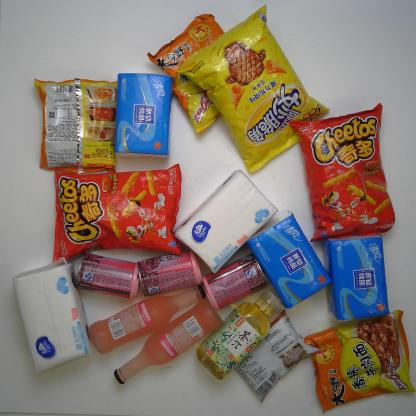Alcohol: (112, 298, 225, 387), (86, 282, 207, 357)
Canned Food: (200, 252, 271, 312), (73, 249, 140, 303), (136, 249, 204, 299)
Drink: (196, 288, 286, 384)
Instant Noodles: (302, 308, 416, 416), (145, 12, 226, 137), (32, 74, 119, 178)
Puffed Food: (173, 3, 334, 176), (288, 101, 397, 245), (50, 162, 183, 263)
Seasoner: (233, 306, 321, 407)
Tissue: (172, 167, 281, 276), (9, 257, 97, 376), (244, 206, 333, 312), (323, 232, 393, 322), (110, 71, 174, 161)
